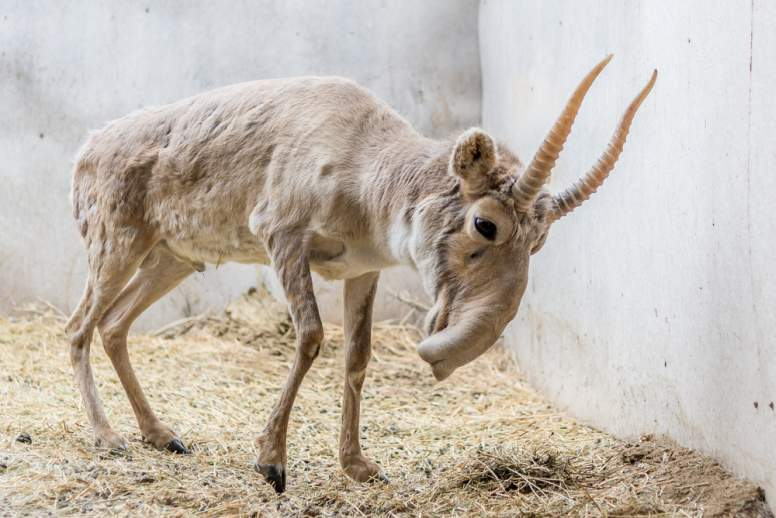saiga: (68, 55, 663, 498)
